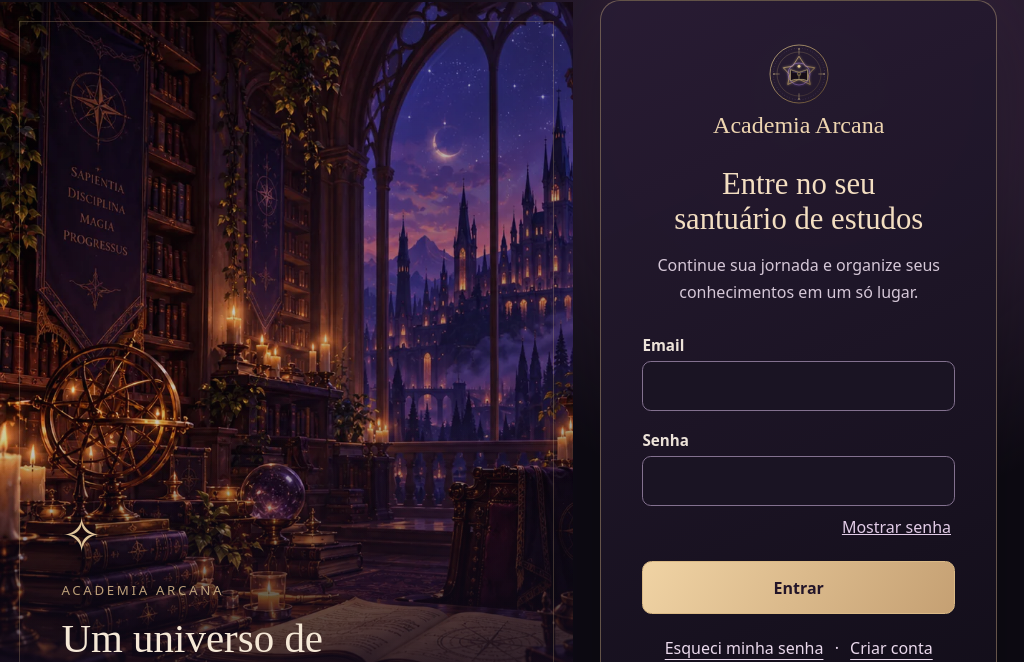
AuthForm › shows a non-sensitive error when login fails
Type "student@example.com" into the field labelled "Email". click: (799, 386)
box: [642,361,955,411]
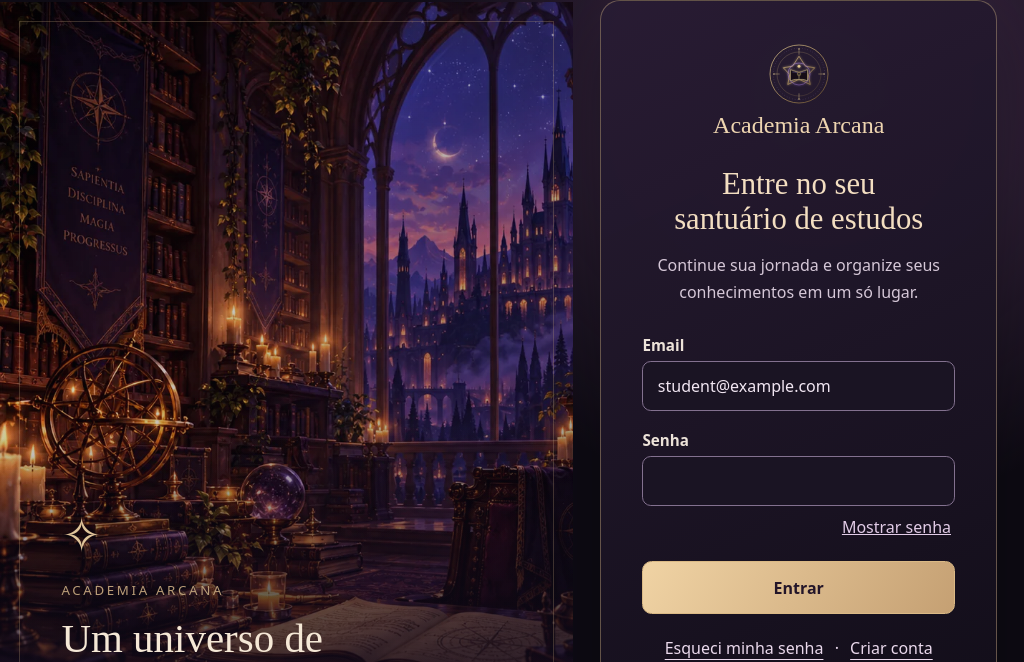
Type "wrong-password" into the password field labelled "Senha". click: (799, 481)
box: [642,456,955,506]
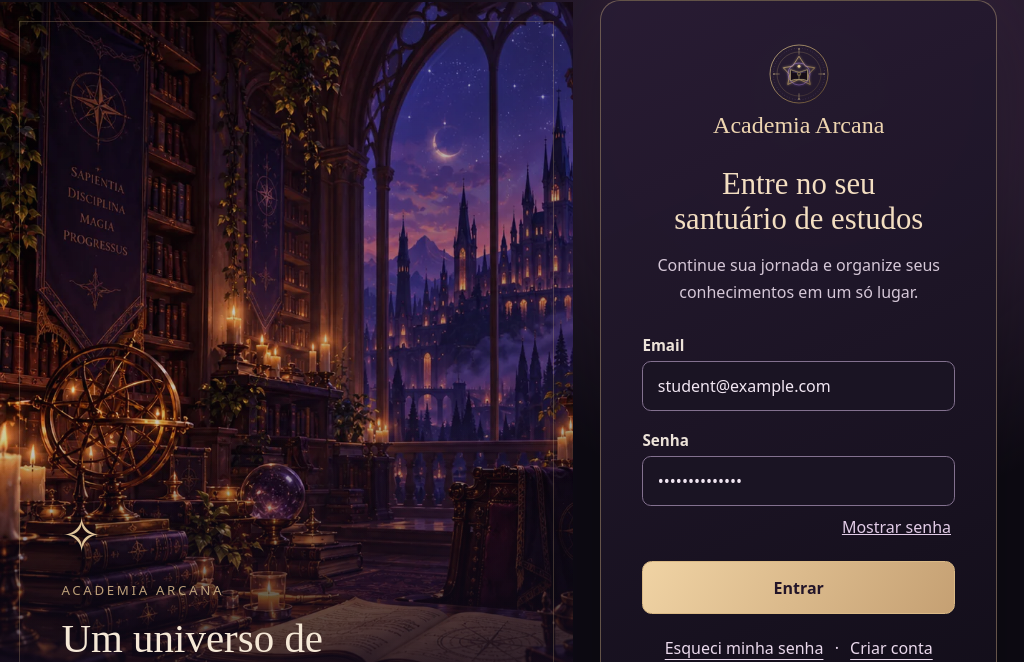
Click the button "Entrar". click: (799, 588)
box: [642,562,955,614]
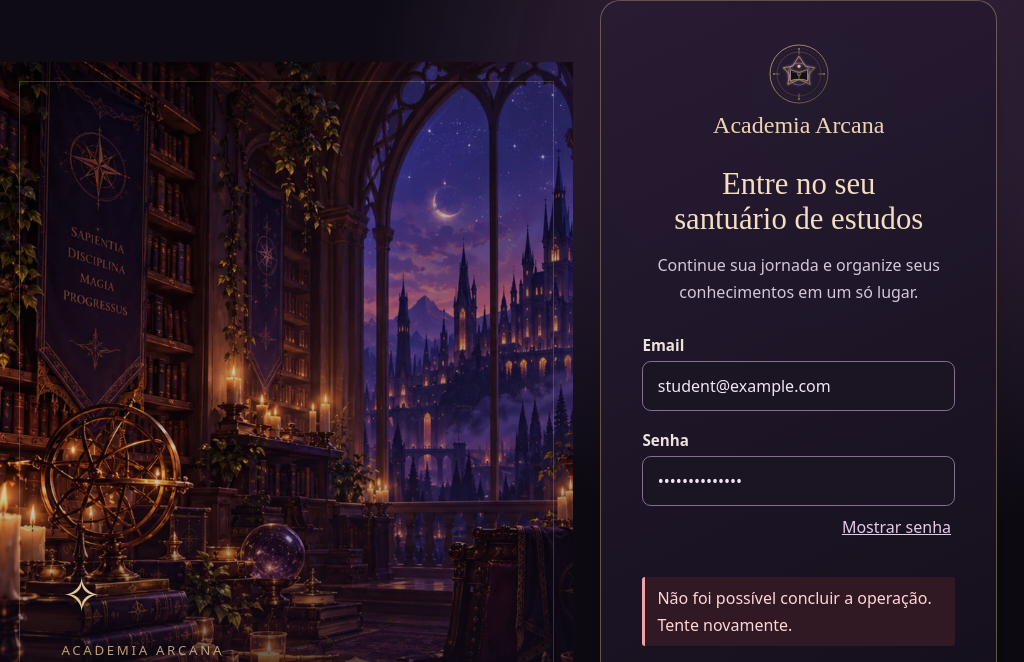
Check: the message reads "Não foi possível concluir a operação. Tente novamente.", box [657,588,932,636]
